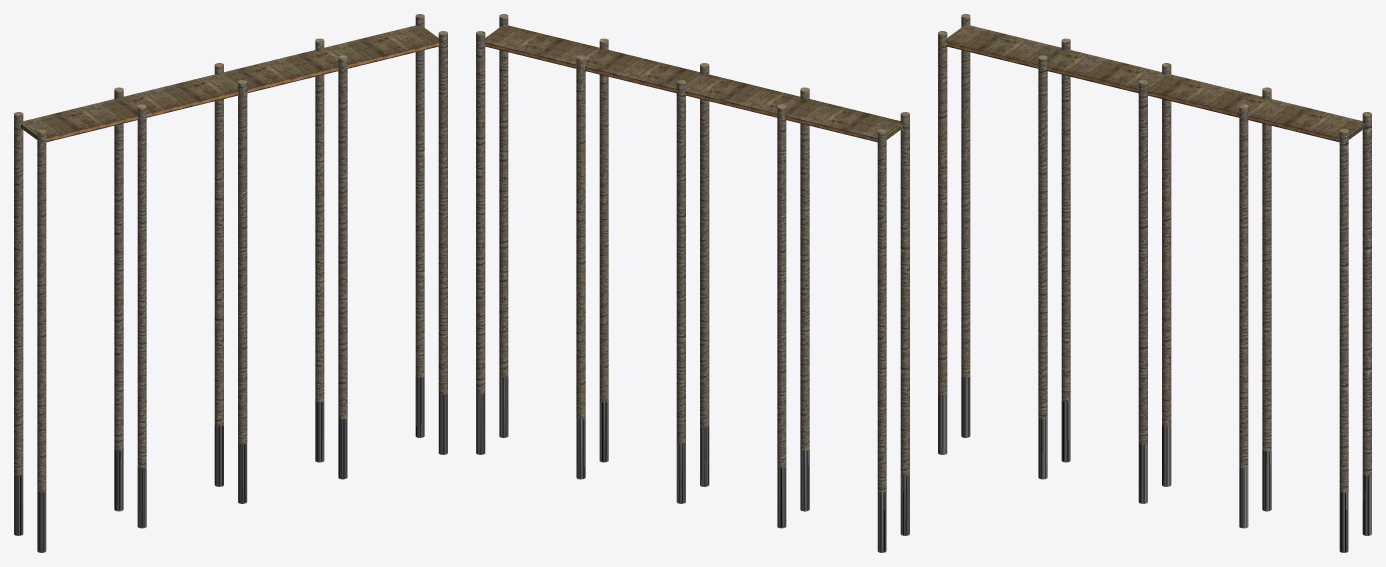
File: Dock 1.fbx
3 views of the same model, side by side, from view 1: azimuth 30°, elevation 25°; view 2: azimuth 150°, elevation 25°; view 3: azimuth 330°, elevation 25° (orthographic).
Parts seen in each view (by area): view 1: Dock1; view 2: Dock1; view 3: Dock1.
Boxes of the visible parts, x1,y1,x2,y2 form: Dock1: (14,14,447,552); Dock1: (476,14,909,552); Dock1: (938,14,1371,552).
Bounding box in the file's own units: 20.4 × 20 × 2.4.
